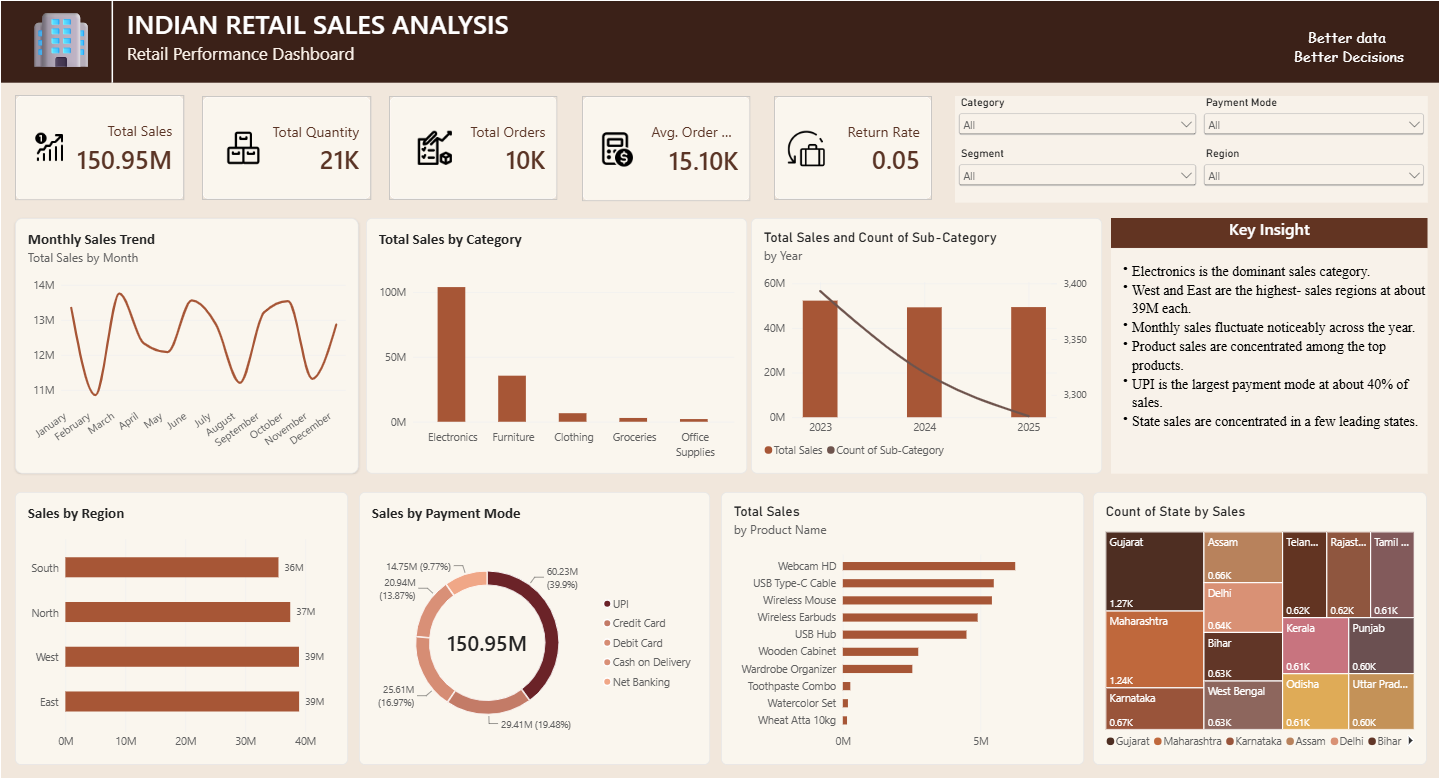

This screenshot's page, from the dashboard's own definition file:
{"tool":"powerbi","page":{"name":"Page 1","canvas":[1920,1080],"ordinal":0},"visuals":[{"type":"cardVisual","fields":{"Data":["india_retail_sales_dataset.Total Quantity"]},"box":[270,127.1,225.7,138.6],"z":0},{"type":"cardVisual","fields":{"Data":["india_retail_sales_dataset.Total Orders"]},"box":[518.6,127.1,224.3,138.6],"z":1000},{"type":"cardVisual","fields":{"Data":["india_retail_sales_dataset.Average Order Value"]},"box":[775.7,127.1,224.3,140],"z":2000},{"type":"lineChart","title":"Monthly Sales Trend","fields":{"Category":["india_retail_sales_dataset.Order Date.Variation.Date Hierarchy.Month"],"Y":["india_retail_sales_dataset.Total Sales"]},"box":[21.4,290,457.1,340],"z":3000},{"type":"clusteredColumnChart","fields":{"Category":["india_retail_sales_dataset.Category"],"Y":["india_retail_sales_dataset.Total Sales"]},"box":[488.6,290,507.1,340],"z":4000},{"type":"clusteredBarChart","title":"Sales by Region","fields":{"Category":["india_retail_sales_dataset.Region"],"Y":["india_retail_sales_dataset.Total Sales"]},"box":[21.4,654.3,442.9,362.9],"z":5000},{"type":"donutChart","title":"Sales by Payment Mode","fields":{"Category":["india_retail_sales_dataset.Payment Mode"],"Y":["india_retail_sales_dataset.Total Sales"]},"box":[478.6,654.3,467.1,362.9],"z":6000},{"type":"slicer","fields":{"Values":["india_retail_sales_dataset.Region"]},"box":[1597.1,195.7,302.9,74.3],"z":7000},{"type":"slicer","fields":{"Values":["india_retail_sales_dataset.Category"]},"box":[1271.4,127.1,325.7,68.6],"z":8000},{"type":"slicer","fields":{"Values":["india_retail_sales_dataset.Segment"]},"box":[1271.4,195.7,325.7,74.3],"z":9000},{"type":"slicer","fields":{"Values":["india_retail_sales_dataset.Payment Mode"]},"box":[1597.1,127.1,302.9,68.6],"z":10000},{"type":"clusteredBarChart","fields":{"Category":["india_retail_sales_dataset.Product Name"],"Y":["india_retail_sales_dataset.Total Sales"]},"box":[960,654.3,482.9,362.9],"z":11000},{"type":"lineStackedColumnComboChart","fields":{"Category":["india_retail_sales_dataset.Order Date.Variation.Date Hierarchy.Year"],"Y":["india_retail_sales_dataset.Total Sales"],"Y2":["CountNonNull(india_retail_sales_dataset.Sub-Category)"]},"box":[1000,290,467.1,340],"z":12000},{"type":"treemap","title":"Count of State by Sales","fields":{"Group":["india_retail_sales_dataset.State"],"Values":["CountNonNull(india_retail_sales_dataset.State)"]},"box":[1455.7,654.3,444.3,362.9],"z":13000},{"type":"cardVisual","fields":{"Data":["india_retail_sales_dataset.Total Sales"]},"box":[21.4,125.7,225.7,140],"z":14000},{"type":"cardVisual","fields":{"Data":["india_retail_sales_dataset.Return Rate"]},"box":[1031.4,127.1,210,138.6],"z":15000},{"type":"shape","box":[0,0,1920,110],"z":16000},{"type":"textbox","title":"INDIAN RETAIL SALES ANALYSIS","box":[170,8.6,830.5,93.8],"z":17000},{"type":"textbox","title":"Key Insight","box":[1478.6,290,421.4,340],"z":19000},{"type":"textbox","box":[32.9,0,101.4,102.9],"z":20000},{"type":"shape","box":[115.7,0,70,110],"z":21000},{"type":"textbox","box":[1690,35.7,210,55.7],"z":22000}]}

Visuals, with their boxes on the page's 1920x1080 design canvas (x1, y1, x2, y2). These are canvas units, not pixel positions in the 1440x779 screenshot, which may show the page scaled, cropped or inside an application window:
cardVisual - india_retail_sales_dataset.Total Quantity: box=[270, 127, 496, 266]
cardVisual - india_retail_sales_dataset.Total Orders: box=[519, 127, 743, 266]
cardVisual - india_retail_sales_dataset.Average Order Value: box=[776, 127, 1000, 267]
"Monthly Sales Trend" lineChart: box=[21, 290, 478, 630]
clusteredColumnChart - india_retail_sales_dataset.Category x india_retail_sales_dataset.Total Sales: box=[489, 290, 996, 630]
"Sales by Region" clusteredBarChart: box=[21, 654, 464, 1017]
"Sales by Payment Mode" donutChart: box=[479, 654, 946, 1017]
slicer - india_retail_sales_dataset.Region: box=[1597, 196, 1900, 270]
slicer - india_retail_sales_dataset.Category: box=[1271, 127, 1597, 196]
slicer - india_retail_sales_dataset.Segment: box=[1271, 196, 1597, 270]
slicer - india_retail_sales_dataset.Payment Mode: box=[1597, 127, 1900, 196]
clusteredBarChart - india_retail_sales_dataset.Product Name x india_retail_sales_dataset.Total Sales: box=[960, 654, 1443, 1017]
lineStackedColumnComboChart - india_retail_sales_dataset.Order Date.Variation.Date Hierarchy.Year x india_retail_sales_dataset.Total Sales: box=[1000, 290, 1467, 630]
"Count of State by Sales" treemap: box=[1456, 654, 1900, 1017]
cardVisual - india_retail_sales_dataset.Total Sales: box=[21, 126, 247, 266]
cardVisual - india_retail_sales_dataset.Return Rate: box=[1031, 127, 1241, 266]
shape: box=[0, 0, 1920, 110]
"INDIAN RETAIL SALES ANALYSIS" textbox: box=[170, 9, 1000, 102]
"Key Insight" textbox: box=[1479, 290, 1900, 630]
textbox: box=[33, 0, 134, 103]
shape: box=[116, 0, 186, 110]
textbox: box=[1690, 36, 1900, 91]
